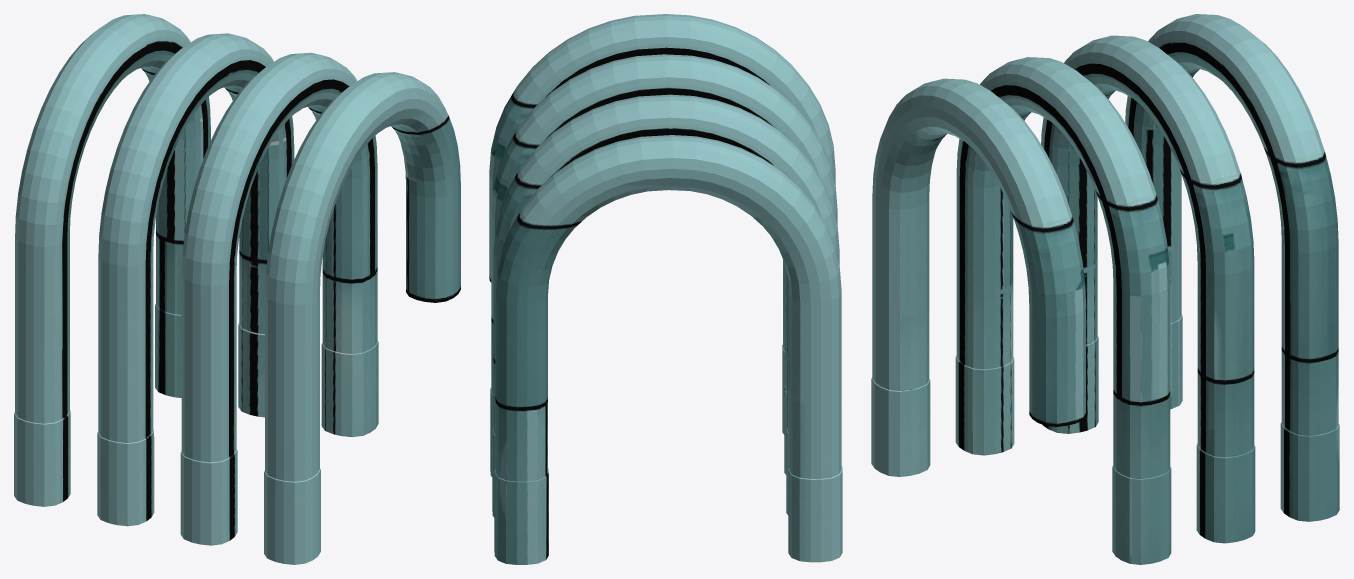
File: pipes.glb
3 views of the same model, side by side, from view 1: azimuth 30°, elevation 25°; view 2: azimuth 150°, elevation 25°; view 3: azimuth 270°, elevation 25° (orthographic). The views are drawn at different scales.
Visible parts, largest first — view 1: Tubes.001; view 2: Tubes.001; view 3: Tubes.001.
Part boxes in pixels (box(x1,y1,x2,y2)): Tubes.001: box(14, 14, 460, 564); Tubes.001: box(489, 14, 842, 564); Tubes.001: box(871, 14, 1339, 564).
Size of the model in its own units: 9.37 by 9.37 by 9.33.
1 material, 1 textured.
